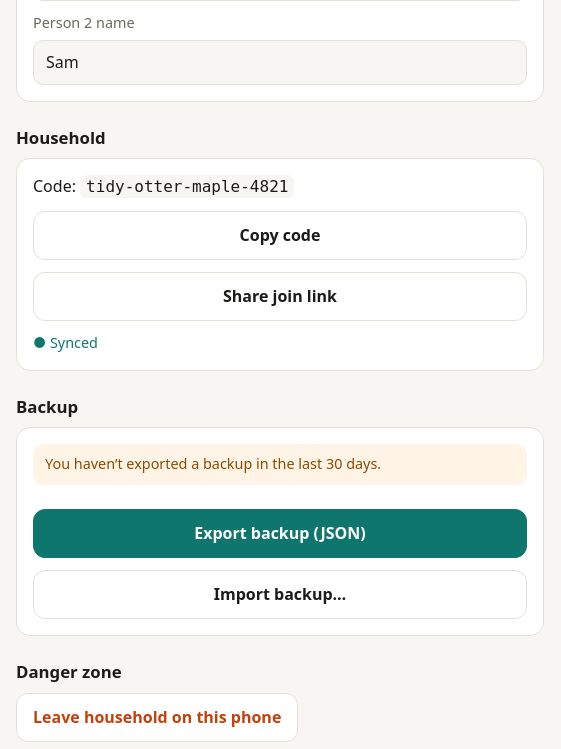
Scenario: a blocked share shows a Save button whose tap shares; lastExportAt is set only after success
(page scrolled)
Step 1. Click the button "Export backup (JSON)" → (280, 534), box [33,509,527,558]
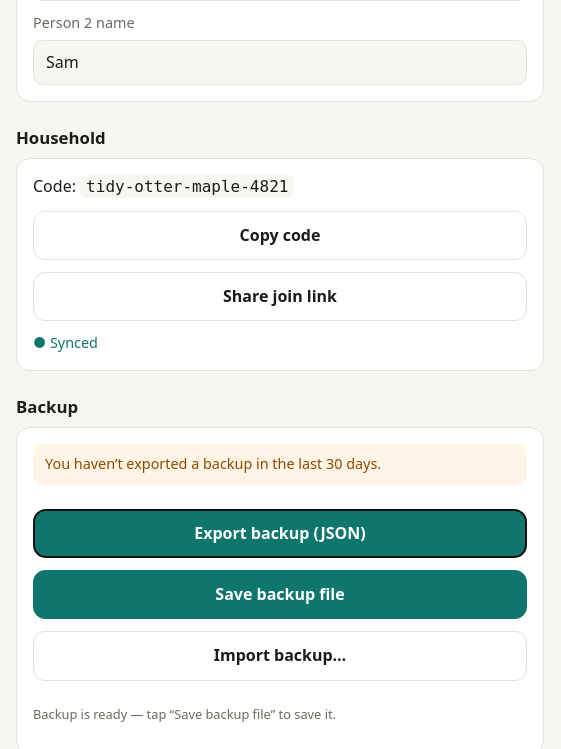
Step 2. Click the button "Save backup file" → (280, 595), box [33,570,527,619]
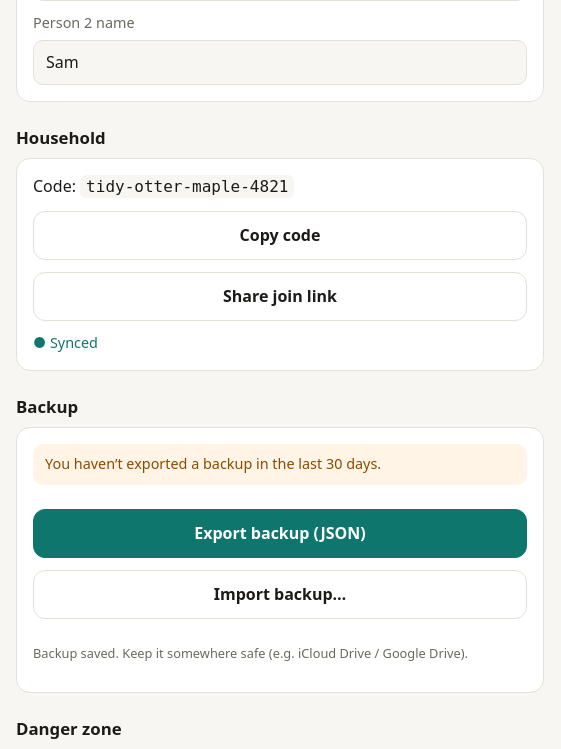
Expected: the text "Backup saved. Keep it somewhere safe (e.g. iCloud Drive / Google Drive)." is shown, [33,644,527,663]
Expected: the button "Save backup file" is gone
